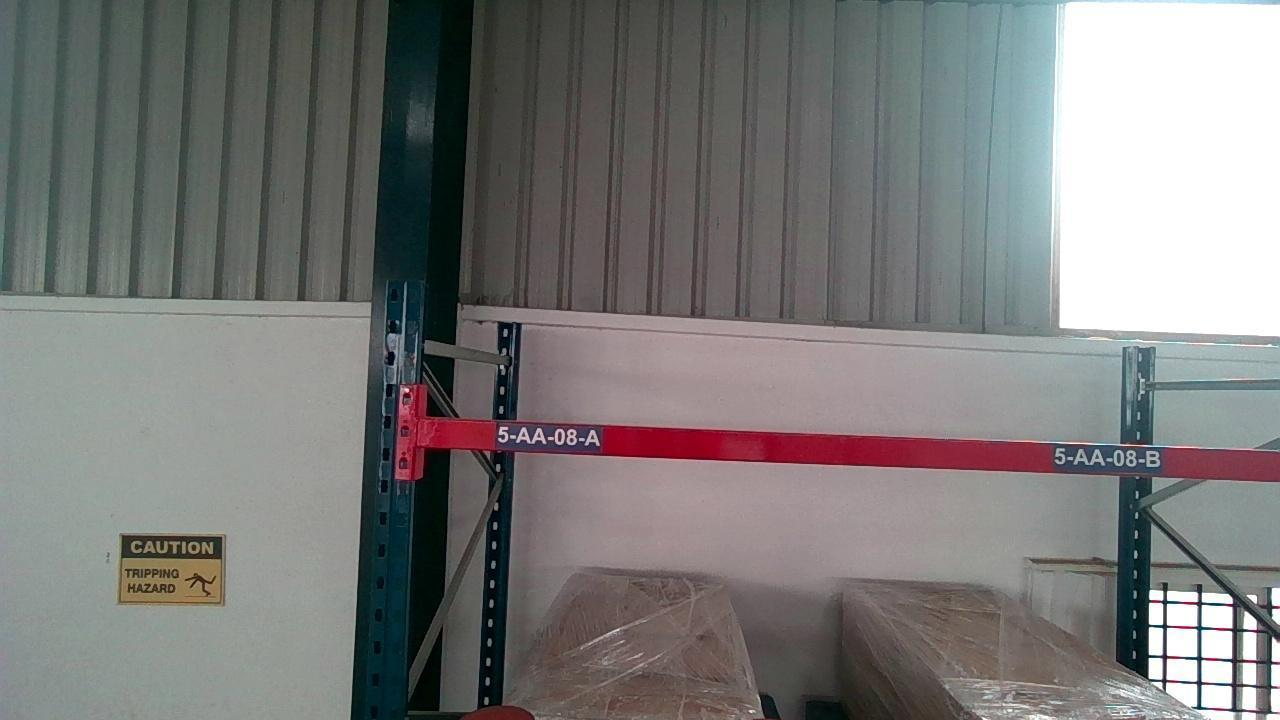h_rack: (418, 418, 1278, 478)
